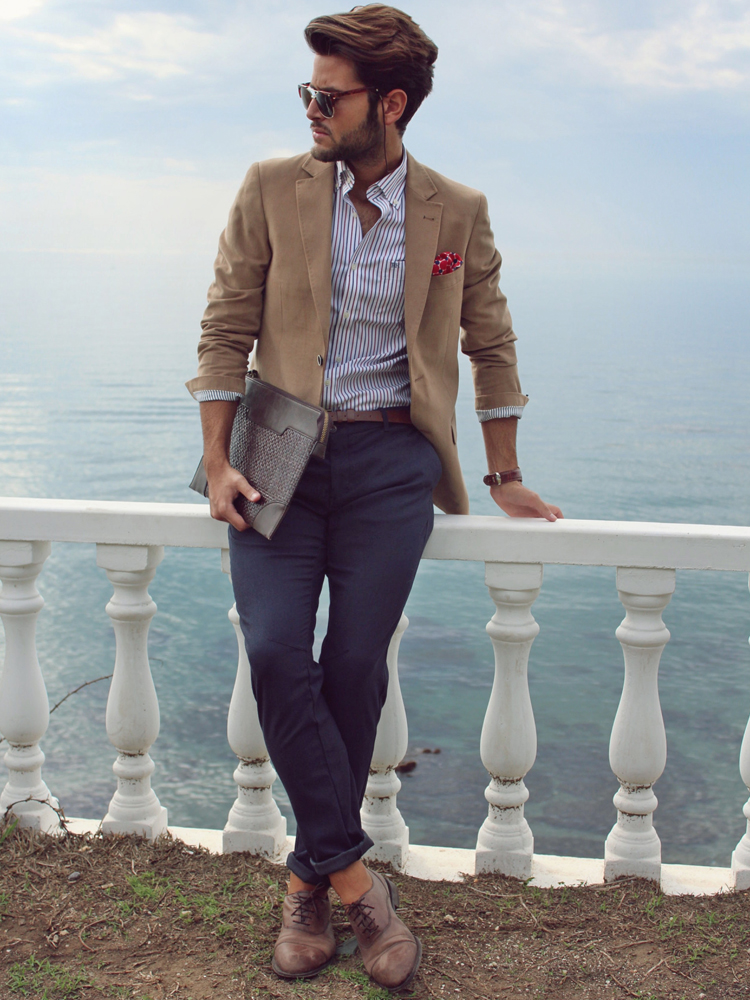NOTSAFE: (226, 5, 461, 543)
